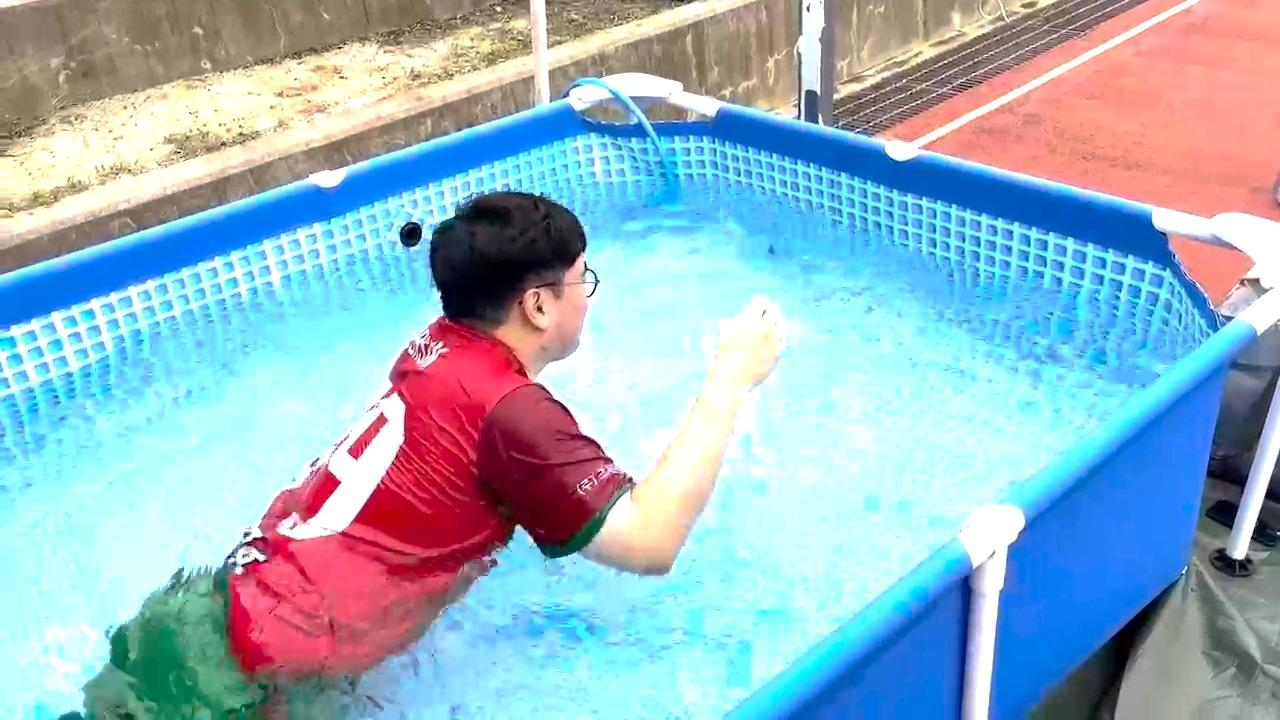Swimming: (24, 155, 857, 714)
